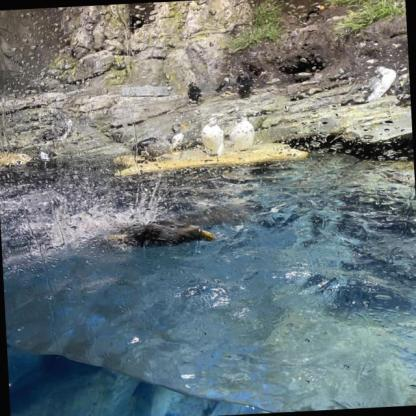puffin: (102, 213, 217, 250), (362, 65, 396, 101), (227, 113, 255, 152), (200, 118, 226, 156), (163, 122, 189, 156), (40, 118, 74, 143), (26, 149, 58, 173), (136, 135, 164, 159), (214, 72, 238, 96), (184, 79, 204, 107), (305, 5, 326, 24), (237, 69, 251, 97)
